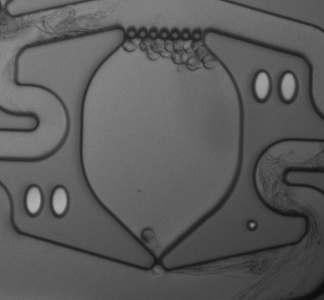AptNum: (244, 63, 304, 111)
Marker: (243, 214, 265, 235)
StNum: (15, 177, 79, 228)
Trap: (132, 256, 188, 299)
